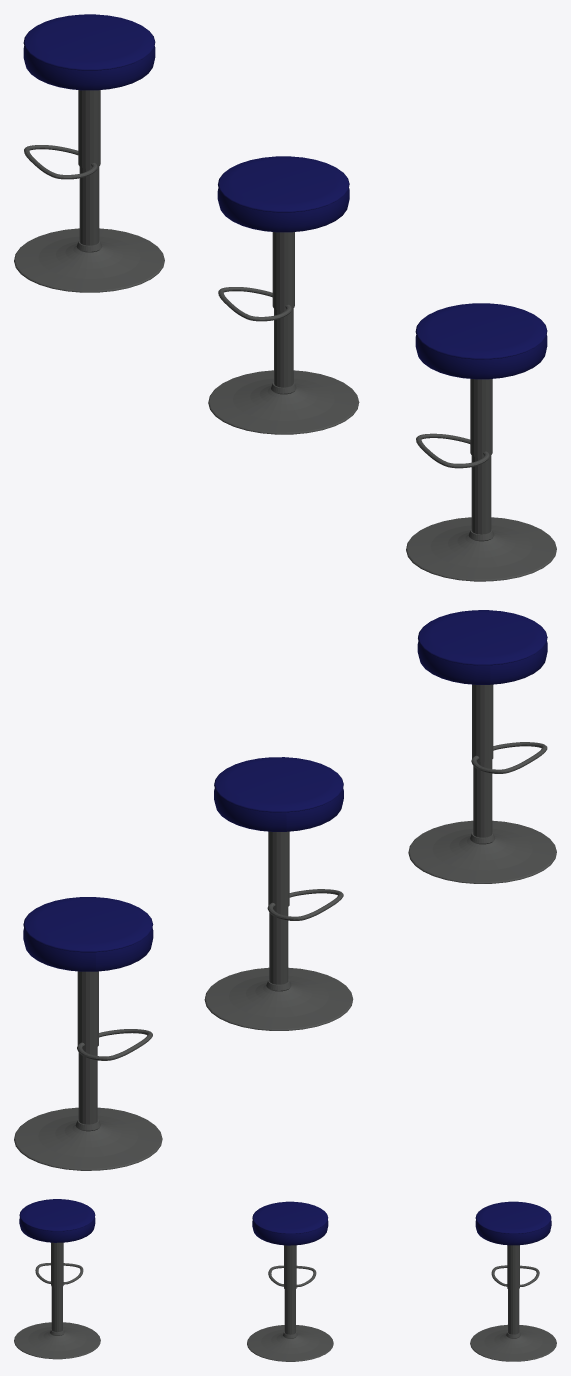
File: Decors_8.glb
3 views of the same model, one above another, from view 1: azimuth 30°, elevation 25°; view 2: azimuth 150°, elevation 25°; view 3: azimuth 270°, elevation 25° (orthographic). The views are drawn at different scales.
Visible parts, largest first — view 1: Stool2.002, Stool2, Stool2.001; view 2: Stool2, Stool2.002, Stool2.001; view 3: Stool2, Stool2.001, Stool2.002.
Part boxes in pixels (left/top/right/bottom): Stool2.002: left=406, top=303, right=556, bottom=581; Stool2: left=14, top=14, right=164, bottom=292; Stool2.001: left=208, top=156, right=359, bottom=434; Stool2: left=14, top=897, right=162, bottom=1170; Stool2.002: left=408, top=610, right=556, bottom=883; Stool2.001: left=204, top=757, right=353, bottom=1030; Stool2: left=470, top=1201, right=556, bottom=1361; Stool2.001: left=247, top=1201, right=333, bottom=1361; Stool2.002: left=14, top=1199, right=100, bottom=1359.
Size of the model in its own units: 0.8808 by 1.4 by 5.34.
